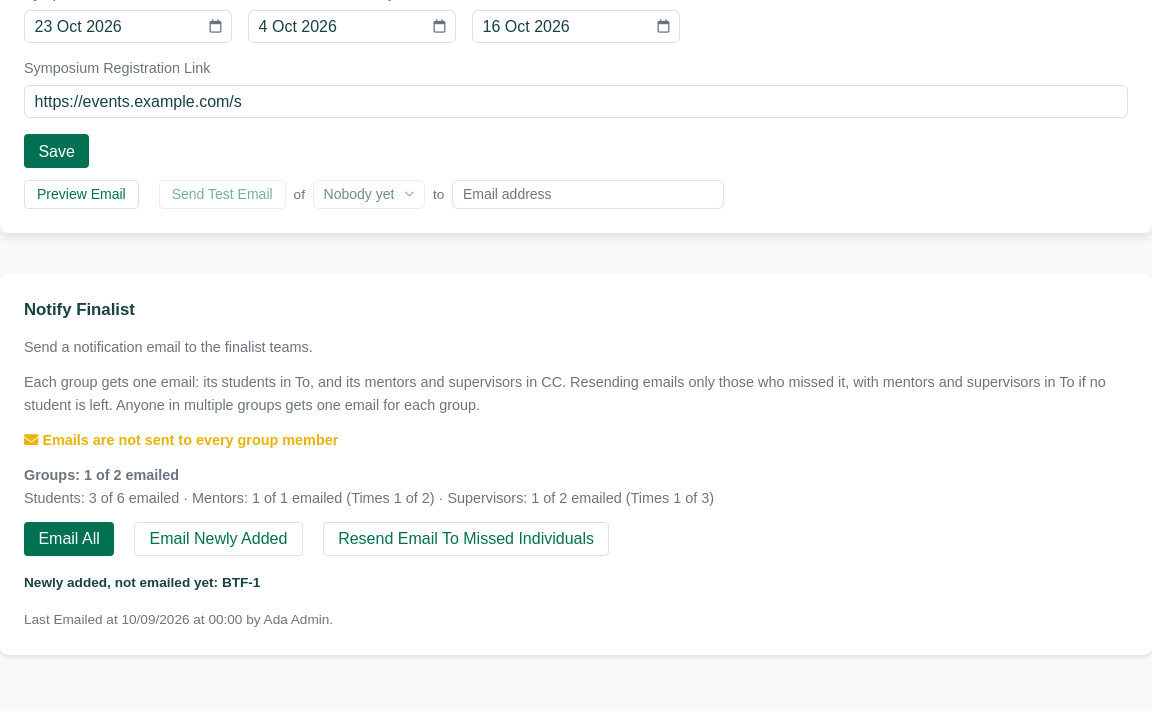
Test: sending › explains, with a plain dash, a send that had nobody left to email
(page scrolled)
Click the button "Email All": (69, 539) x1=24 y1=522 x2=114 y2=556
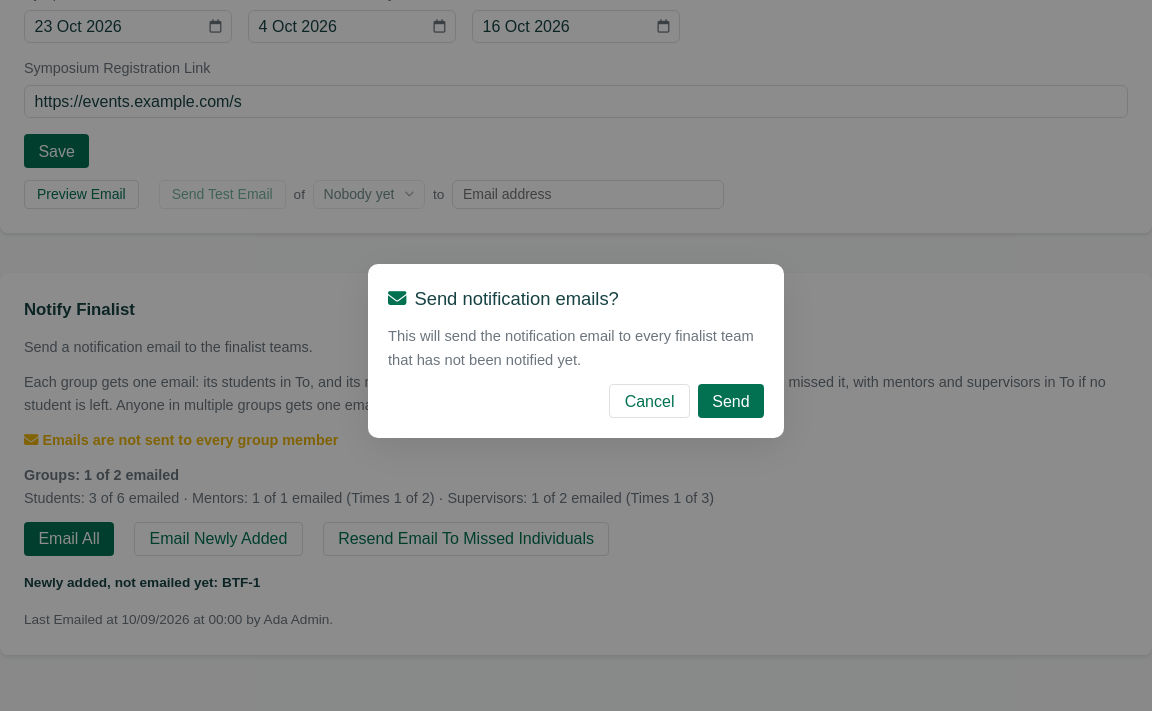
Click the button "Send": (731, 401) x1=698 y1=384 x2=764 y2=418
(page scrolled)
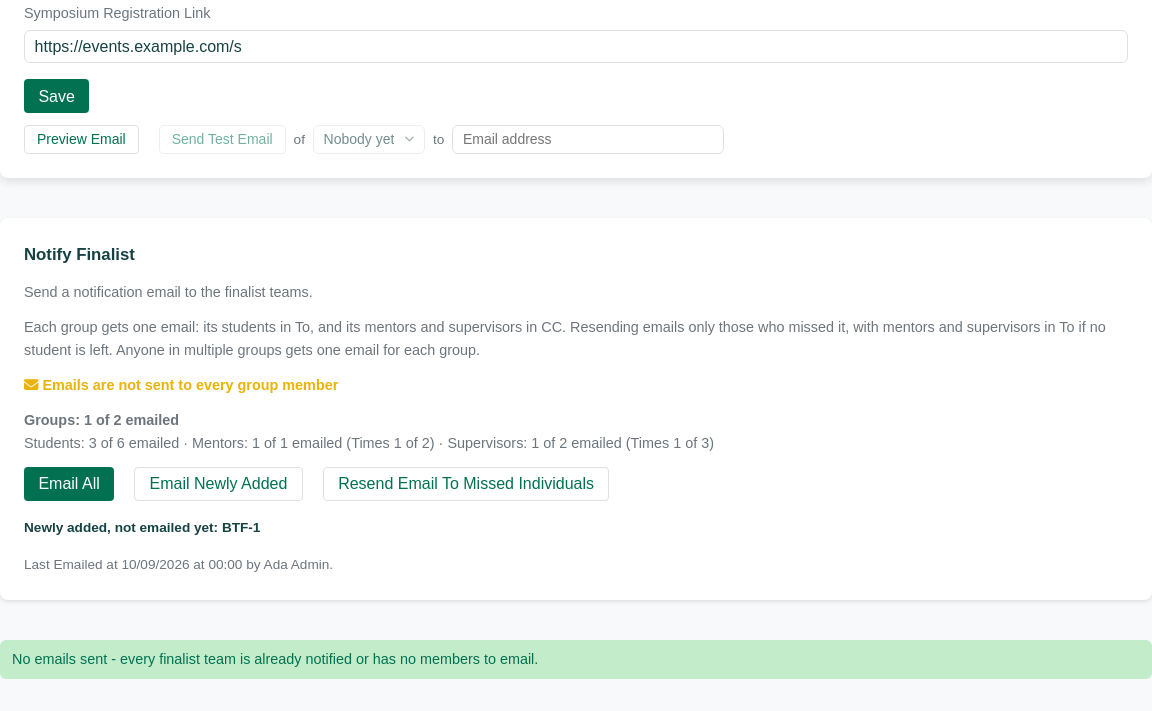
Expected: the text with class "notify-finalists__banner--ok" shows "No emails sent - every finalist team is already notified or has no members to email.", x1=12 y1=651 x2=538 y2=667
